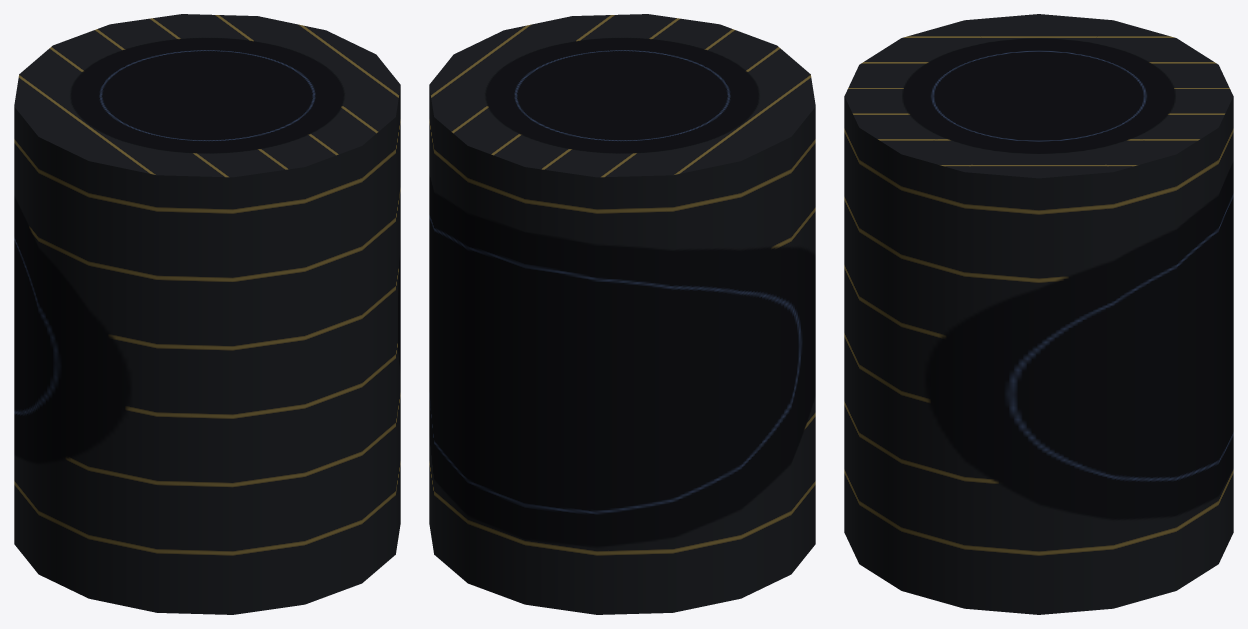
File: pay-telescope_deep-scope-telescope.glb
The picture shows the model from 3 angles, left to right: view 1: azimuth 30°, elevation 25°; view 2: azimuth 150°, elevation 25°; view 3: azimuth 270°, elevation 25°; orthographic projection.
Parts seen in each view (by area): view 1: Deep-Scope Telescope; view 2: Deep-Scope Telescope; view 3: Deep-Scope Telescope.
Part boxes in pixels (x1=…): Deep-Scope Telescope: x1=14, y1=14, x2=400, y2=614; Deep-Scope Telescope: x1=429, y1=14, x2=815, y2=614; Deep-Scope Telescope: x1=844, y1=14, x2=1233, y2=614.
Bounding box in the file's own units: 2.1 × 2.6 × 2.1.
1 material, 1 textured.
